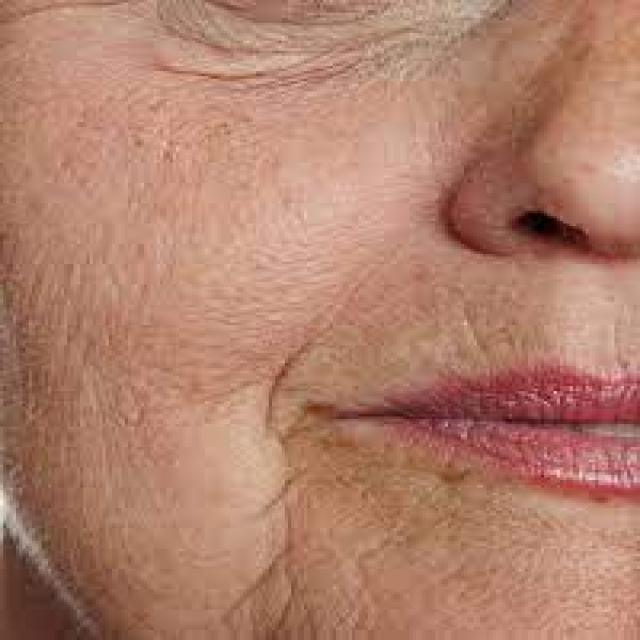Wrinkles: (219, 326, 326, 635), (138, 22, 400, 86)
